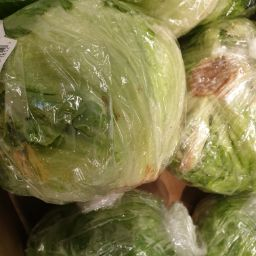Lettuce: (3, 4, 197, 206), (153, 12, 256, 216), (52, 171, 212, 256)
